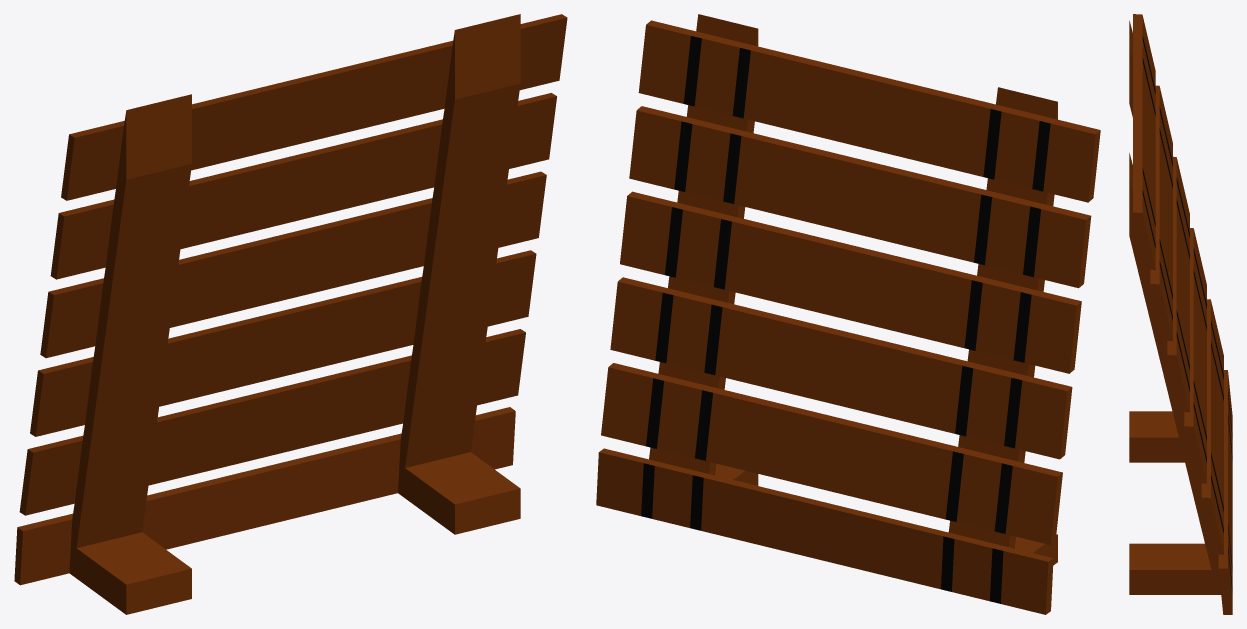
The model's file is Ramp0u 2.fbx.
3 renders of one model, left to right at view 1: azimuth 30°, elevation 25°; view 2: azimuth 150°, elevation 25°; view 3: azimuth 270°, elevation 25°, orthographic. The views are drawn at different scales.
Visible parts, largest first — view 1: Ramp; view 2: Ramp; view 3: Ramp.
Part boxes in pixels (<box>): Ramp: <box>14,14,567,614</box>; Ramp: <box>596,14,1100,614</box>; Ramp: <box>1129,14,1232,614</box>.
Size of the model in its own units: 50000 by 48937 by 11000.
